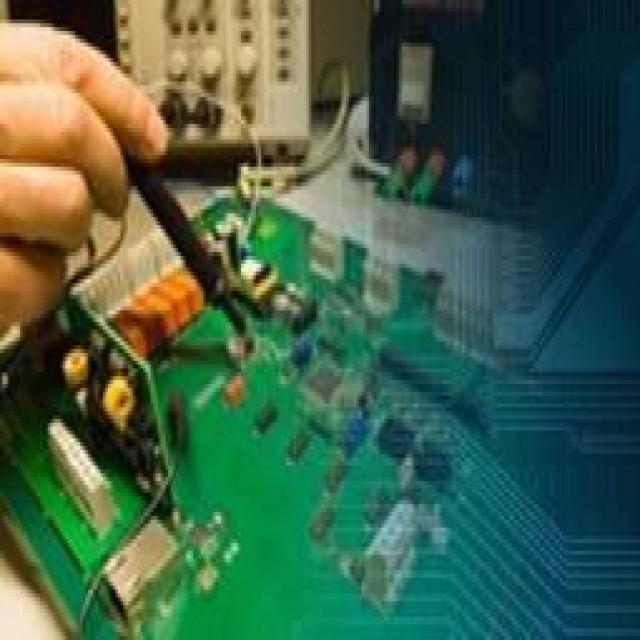pcb: (0, 163, 637, 636), (361, 0, 637, 368), (0, 314, 181, 636), (110, 0, 312, 163), (394, 35, 434, 124)
